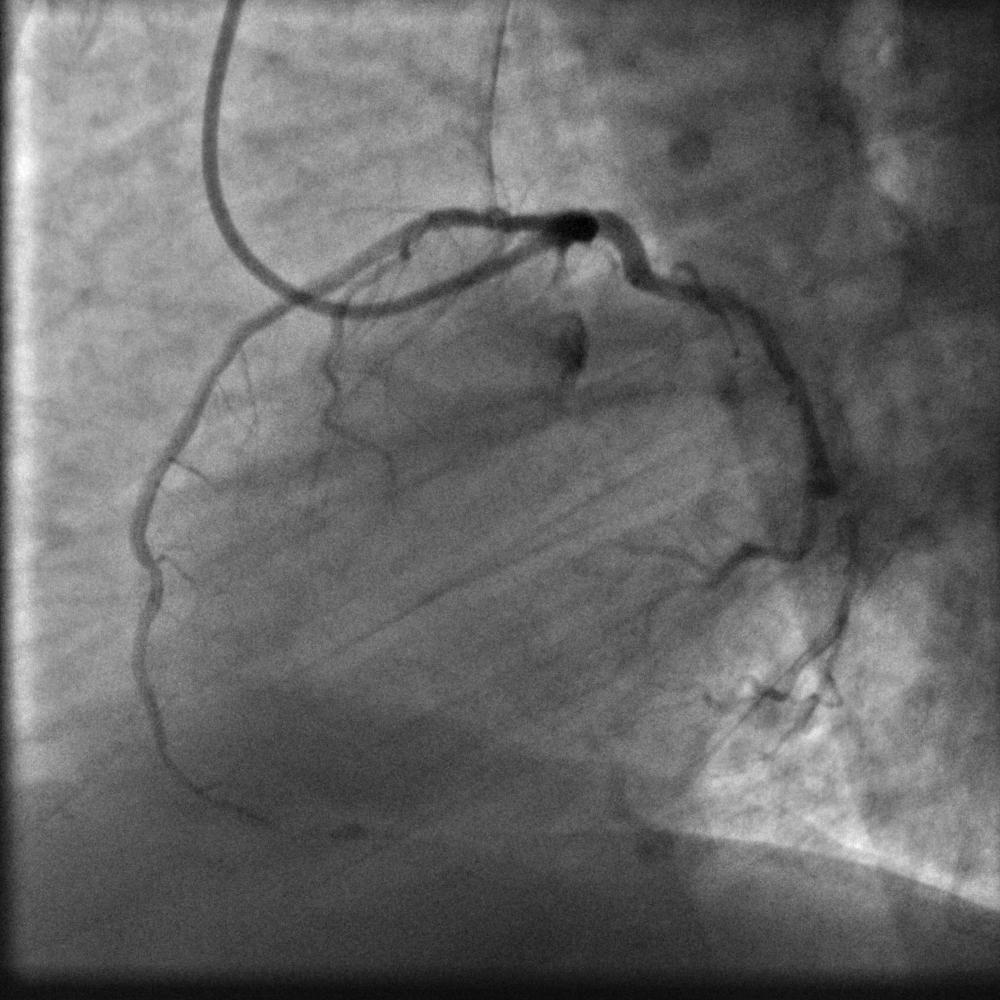Stenosis: (464, 202, 492, 234)
